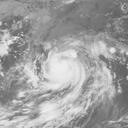cyclone: (32, 35, 97, 105)
